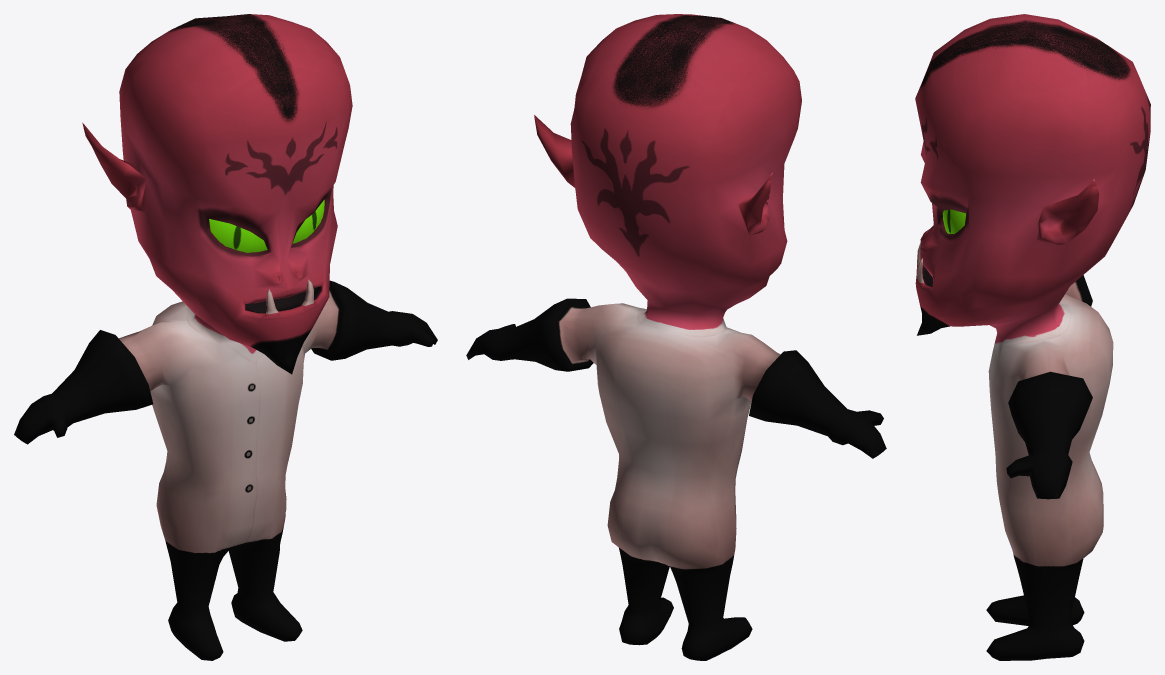
Rendered from enemic.FBX.
The picture shows the model from 3 angles, left to right: view 1: azimuth 30°, elevation 25°; view 2: azimuth 150°, elevation 25°; view 3: azimuth 270°, elevation 25°; orthographic projection.
Visible parts, largest first — view 1: Enemic low ok, OJO; view 2: Enemic low ok; view 3: Enemic low ok, OJO001.
Boxes of the visible parts, box(x1,y1,x2,y2) form: Enemic low ok: box(14, 14, 437, 660); OJO: box(209, 219, 267, 252); Enemic low ok: box(466, 14, 886, 660); Enemic low ok: box(915, 14, 1150, 660); OJO001: box(942, 209, 965, 233).
Bounding box in the file's own units: 1.25 × 1.76 × 0.617.
